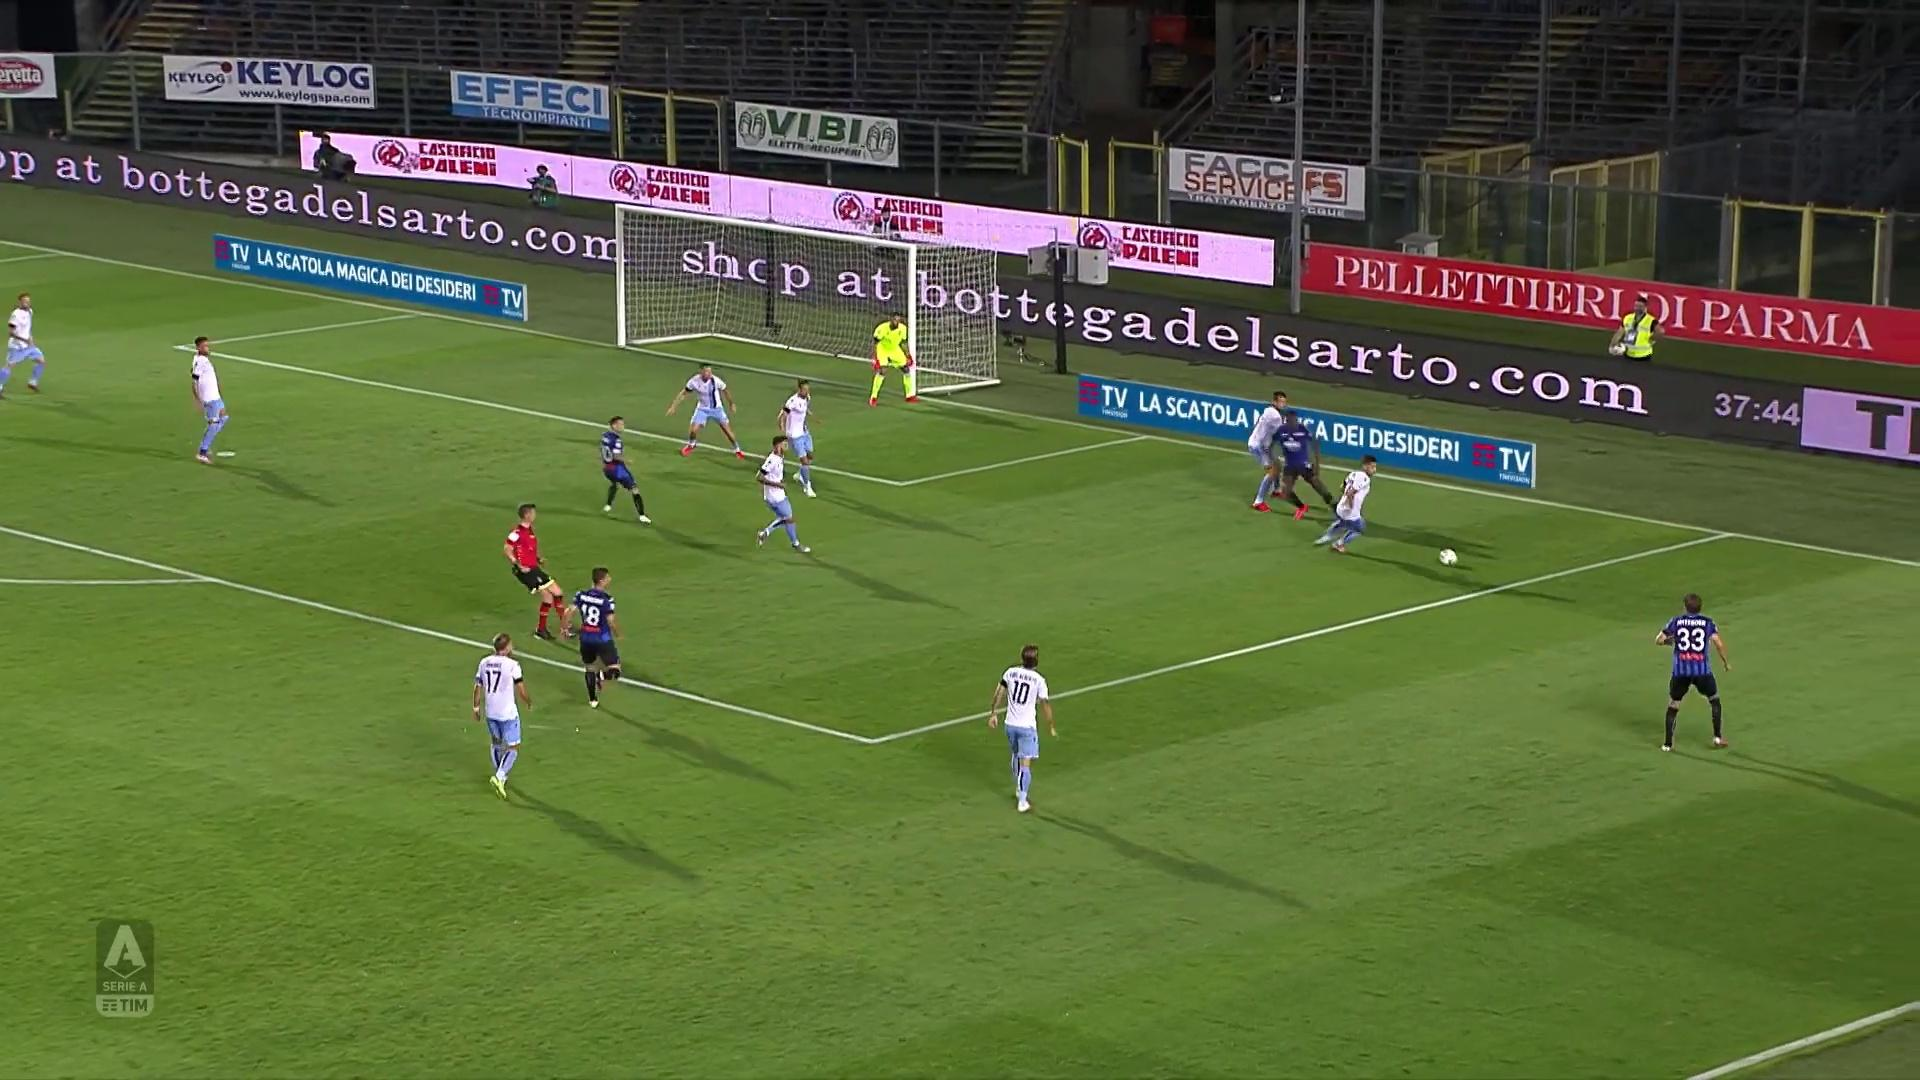ball: (1434, 543, 1465, 572)
goalkeeper: (855, 308, 926, 410)
player: (1648, 592, 1735, 761), (983, 637, 1062, 820), (465, 623, 539, 806), (1268, 405, 1353, 526), (660, 358, 751, 470), (562, 567, 628, 714), (1310, 450, 1395, 559), (588, 408, 658, 534), (180, 332, 240, 476), (1237, 377, 1291, 519), (748, 430, 807, 556), (0, 287, 58, 403), (772, 373, 823, 501)
referee: (495, 500, 582, 646)
